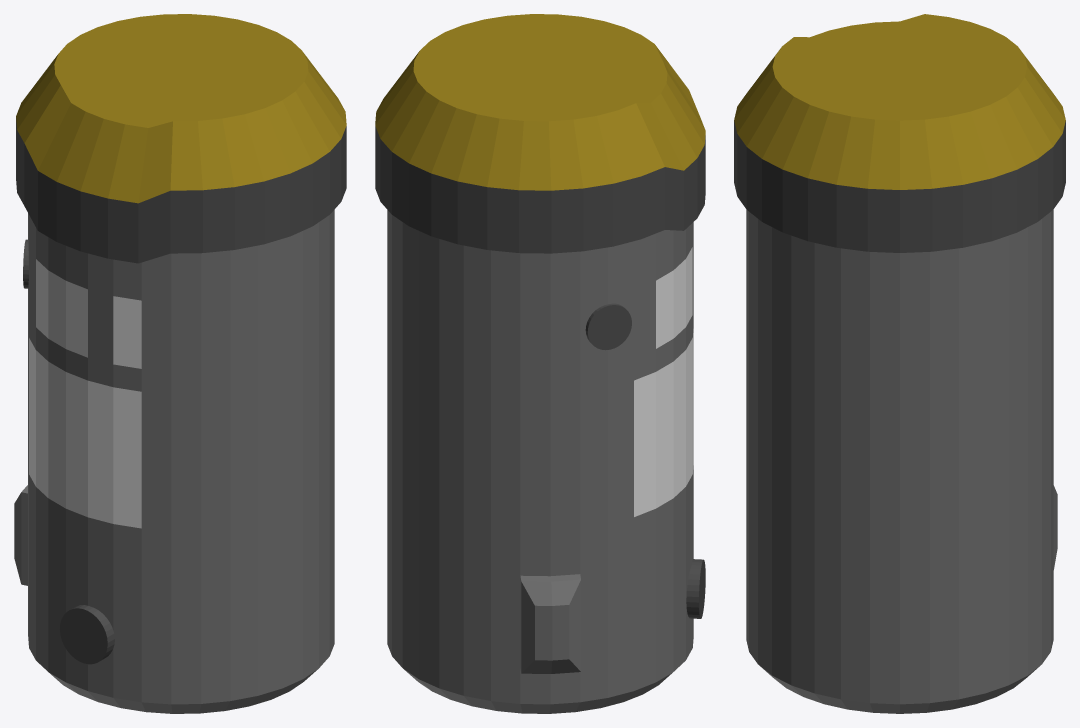
File: RoundBoxMEch.fbx
3 views of the same model, side by side, from view 1: azimuth 30°, elevation 25°; view 2: azimuth 150°, elevation 25°; view 3: azimuth 270°, elevation 25° (orthographic).
Parts seen in each view (by area): view 1: Cylinder; view 2: Cylinder; view 3: Cylinder.
Boxes of the visible parts, box(x1,y1,x2,y2) form: Cylinder: box(14, 14, 346, 713); Cylinder: box(375, 14, 705, 713); Cylinder: box(734, 14, 1065, 713).
Size of the model in its own units: 357 by 700 by 357.
